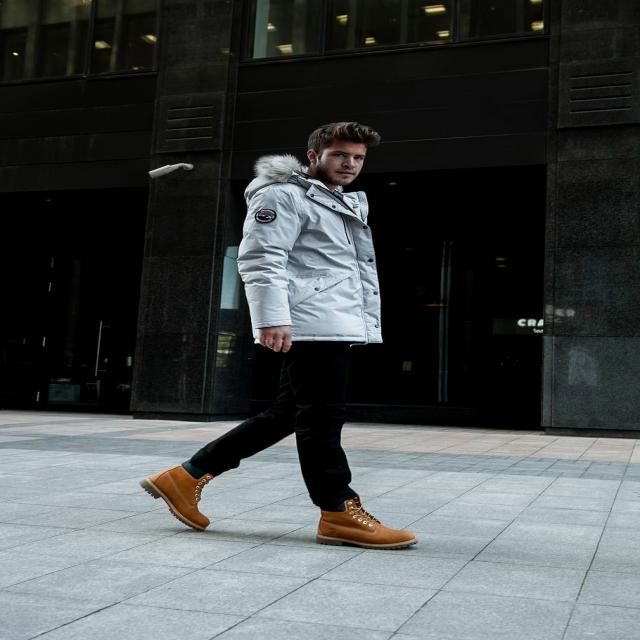adult: (142, 124, 417, 548)
